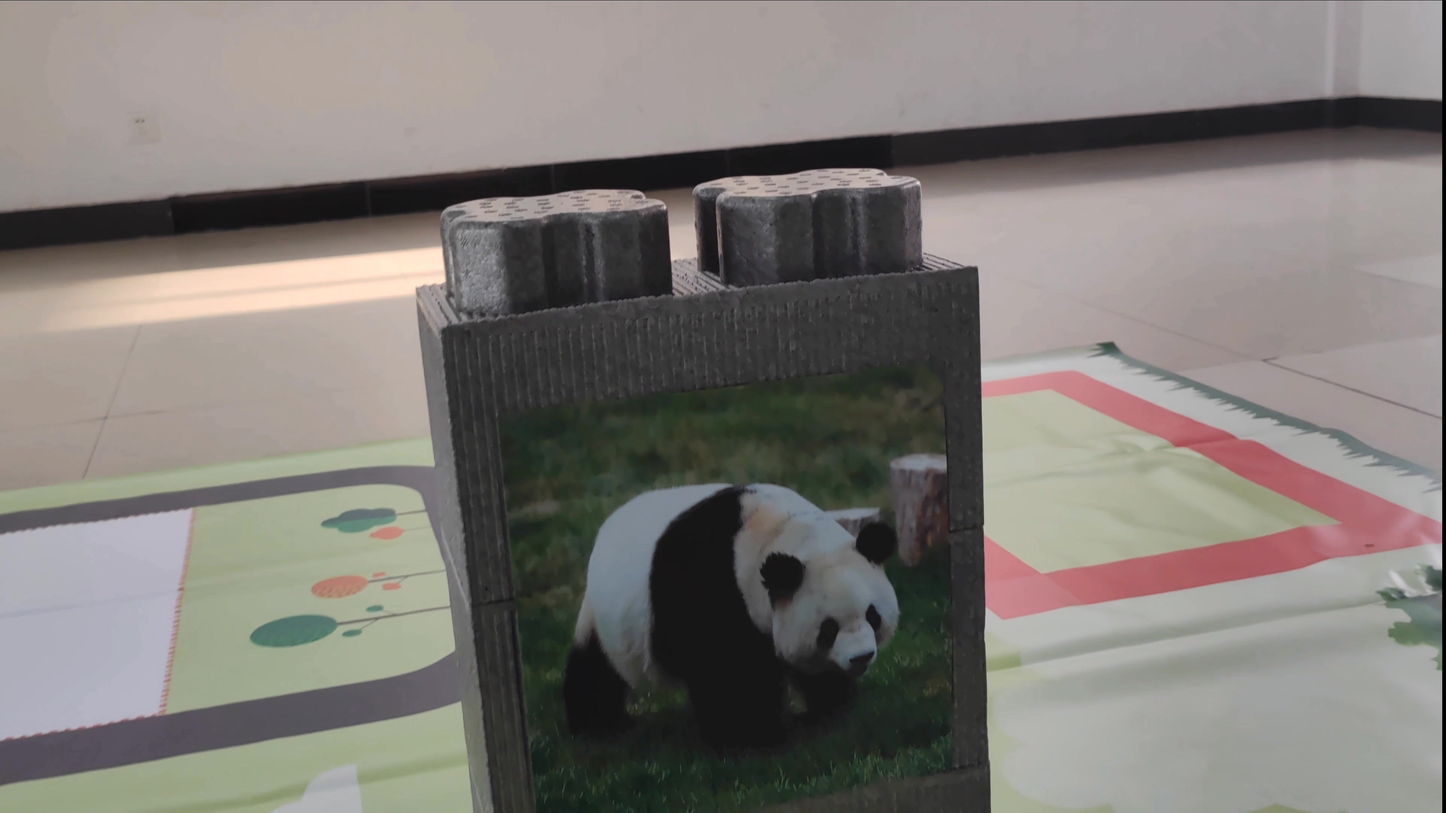panda: (516, 460, 913, 743)
